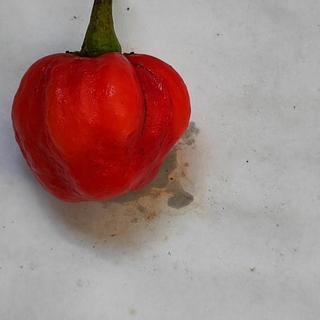Grade-B: (8, 42, 193, 205)
